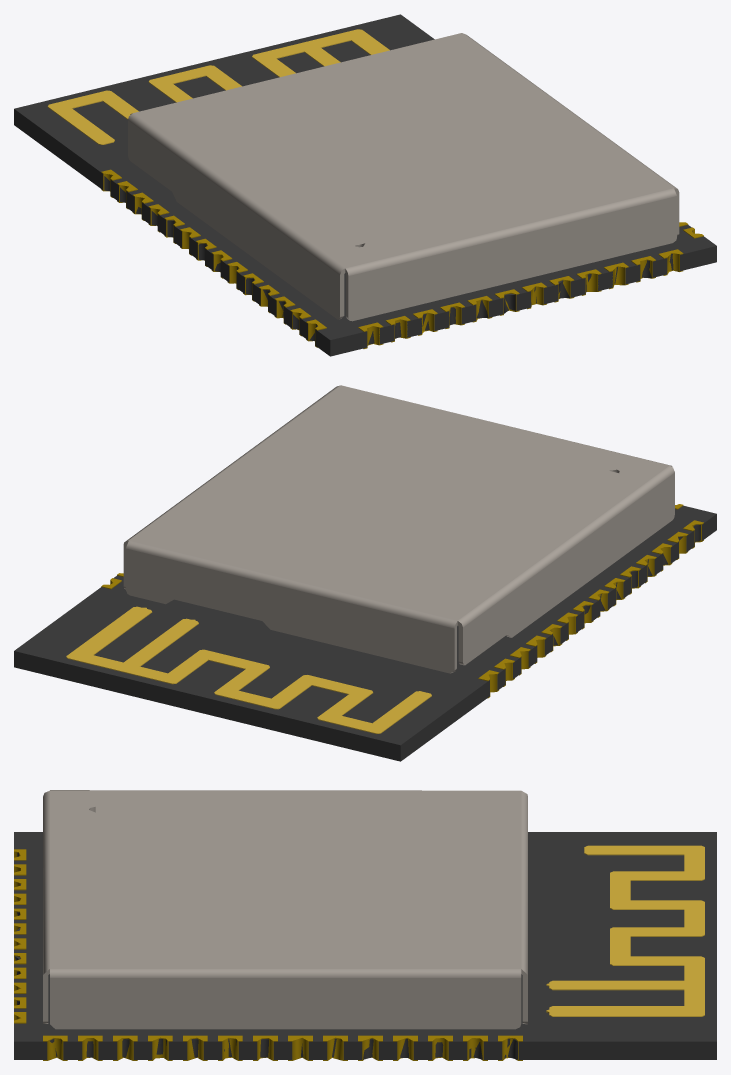
File: esp-esp32-s2-solo.glb
The picture shows the model from 3 angles, top to bottom: view 1: azimuth 30°, elevation 25°; view 2: azimuth 150°, elevation 25°; view 3: azimuth 270°, elevation 25°; orthographic projection. The views are drawn at different scales.
Visible parts, largest first — view 1: 0.4166666666666667_0.3333333333333333_0.3333333333333333_0, 0_0_0_0, 0.4166666666666667_0.25_0_0, 0.6666666666666666_0.4166666666666667_0_0; view 2: 0.4166666666666667_0.3333333333333333_0.3333333333333333_0, 0_0_0_0, 0.6666666666666666_0.4166666666666667_0_0, 0.4166666666666667_0.25_0_0; view 3: 0.4166666666666667_0.3333333333333333_0.3333333333333333_0, 0_0_0_0, 0.6666666666666666_0.4166666666666667_0_0, 0.4166666666666667_0.25_0_0.
Boxes of the visible parts, x1=… form: 0.4166666666666667_0.3333333333333333_0.3333333333333333_0: x1=128, y1=33, x2=679, y2=321; 0_0_0_0: x1=14, y1=14, x2=716, y2=356; 0.4166666666666667_0.25_0_0: x1=101, y1=169, x2=703, y2=348; 0.6666666666666666_0.4166666666666667_0_0: x1=47, y1=29, x2=389, y2=144; 0.4166666666666667_0.3333333333333333_0.3333333333333333_0: x1=123, y1=385, x2=674, y2=673; 0_0_0_0: x1=14, y1=505, x2=716, y2=761; 0.6666666666666666_0.4166666666666667_0_0: x1=66, y1=606, x2=431, y2=733; 0.4166666666666667_0.25_0_0: x1=101, y1=504, x2=703, y2=698; 0.4166666666666667_0.3333333333333333_0.3333333333333333_0: x1=43, y1=790, x2=527, y2=1029; 0_0_0_0: x1=14, y1=832, x2=716, y2=1059; 0.6666666666666666_0.4166666666666667_0_0: x1=546, y1=845, x2=704, y2=1016; 0.4166666666666667_0.25_0_0: x1=14, y1=849, x2=522, y2=1060.
Bounding box in the file's own units: 1.8 × 0.31 × 2.55.
